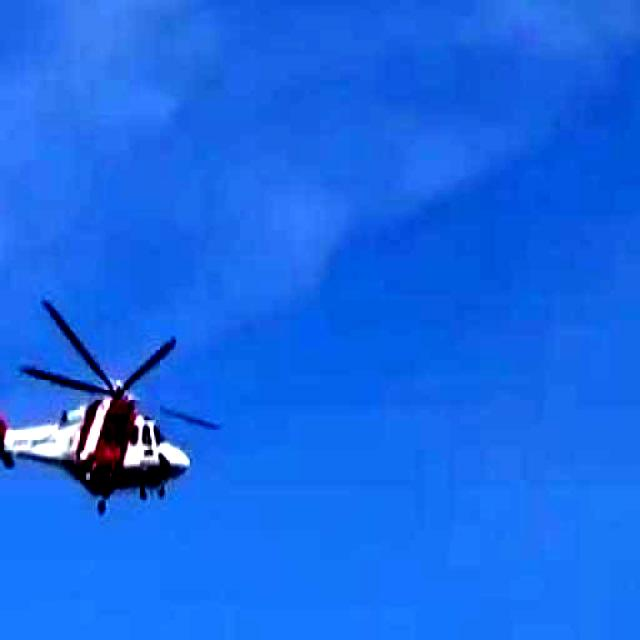drone: (0, 290, 242, 524)
